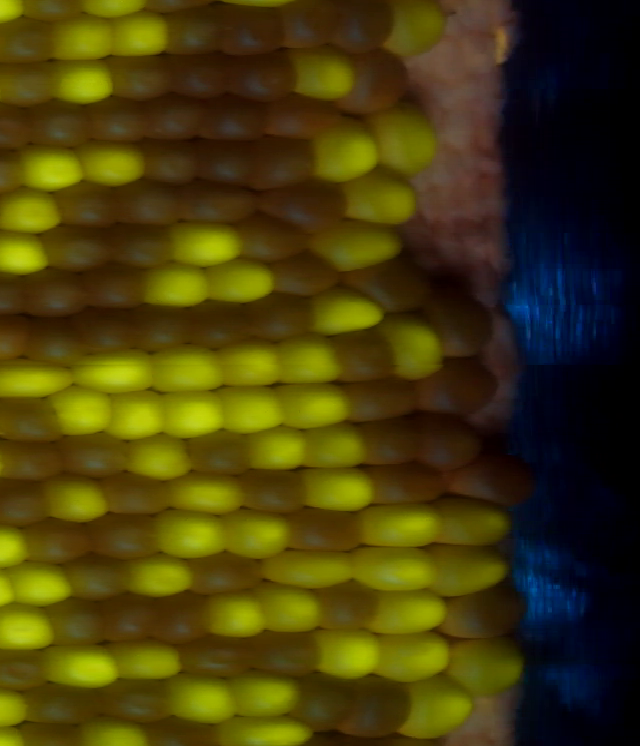fluorescent: (312, 220, 403, 272), (354, 546, 449, 595), (402, 677, 470, 745), (256, 546, 358, 591), (454, 637, 525, 697), (151, 511, 233, 562), (377, 635, 459, 685), (377, 104, 433, 175), (312, 119, 376, 181), (364, 503, 443, 553), (434, 546, 513, 596), (203, 256, 278, 308), (439, 495, 512, 548), (387, 1, 453, 59), (39, 474, 111, 527), (170, 219, 248, 267), (77, 351, 156, 398), (388, 316, 444, 382), (141, 257, 213, 308), (40, 644, 119, 690), (109, 639, 186, 686), (162, 470, 246, 513), (76, 141, 148, 191), (348, 175, 418, 225), (314, 628, 380, 681), (306, 462, 370, 516), (153, 345, 224, 393), (50, 12, 114, 65), (227, 507, 295, 556), (281, 382, 350, 430), (193, 588, 264, 634), (234, 669, 302, 716), (375, 590, 451, 632), (260, 585, 323, 635), (219, 340, 285, 387), (274, 339, 340, 385), (299, 49, 356, 102), (219, 386, 288, 429), (106, 8, 164, 59), (9, 562, 74, 607), (23, 141, 85, 188), (54, 387, 111, 438), (162, 391, 223, 438), (301, 425, 366, 469), (108, 390, 164, 441), (0, 603, 56, 654), (0, 191, 62, 237), (180, 675, 238, 724), (55, 57, 114, 103), (0, 357, 71, 395), (124, 438, 190, 478), (316, 290, 385, 328), (253, 427, 307, 475), (0, 227, 50, 277), (222, 718, 308, 746), (138, 555, 193, 598), (83, 718, 150, 746), (0, 685, 32, 727)
nonfluorescent: (440, 588, 533, 643), (411, 361, 496, 419), (258, 178, 344, 235), (346, 674, 416, 743), (348, 257, 432, 311), (454, 454, 532, 512), (20, 682, 112, 728), (313, 580, 381, 639), (348, 48, 411, 111), (432, 295, 495, 357), (98, 676, 181, 723), (55, 180, 127, 233), (180, 634, 260, 680), (18, 266, 86, 320), (183, 549, 269, 591), (225, 50, 293, 103), (195, 93, 267, 143), (182, 178, 261, 223), (217, 3, 285, 55), (86, 98, 161, 145), (255, 630, 330, 677), (18, 314, 85, 366), (264, 95, 343, 139), (82, 304, 145, 359), (137, 298, 195, 356), (288, 508, 360, 554), (193, 297, 251, 354), (162, 56, 230, 104), (291, 678, 349, 734), (116, 181, 186, 227), (340, 328, 399, 382), (0, 16, 60, 69), (111, 49, 172, 101), (44, 225, 112, 271), (96, 472, 170, 514), (277, 251, 339, 301), (250, 292, 314, 340), (412, 418, 474, 467), (66, 432, 132, 478), (66, 555, 132, 601), (371, 461, 445, 502), (346, 374, 409, 422), (191, 430, 254, 478), (154, 590, 211, 643), (243, 466, 304, 514), (162, 9, 224, 56), (0, 475, 56, 527), (0, 440, 69, 482), (90, 518, 164, 557), (25, 103, 97, 143), (106, 588, 160, 641), (259, 140, 320, 186), (148, 96, 213, 139), (50, 596, 107, 645), (361, 419, 419, 467), (202, 139, 261, 186), (248, 218, 312, 261), (0, 399, 64, 441), (19, 522, 91, 559), (0, 59, 54, 108), (116, 223, 175, 266), (87, 265, 143, 309), (282, 4, 335, 49), (343, 3, 392, 50), (145, 140, 198, 183), (0, 643, 50, 688), (0, 106, 32, 149)
